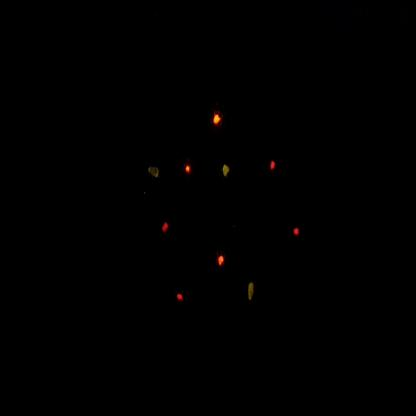PET: (153, 205, 181, 251), (285, 212, 311, 258), (167, 278, 193, 320), (263, 147, 284, 186)
PP: (141, 151, 169, 195), (239, 268, 265, 315), (217, 153, 241, 190)
PVC: (209, 231, 233, 289), (176, 150, 202, 195), (206, 101, 232, 137)
